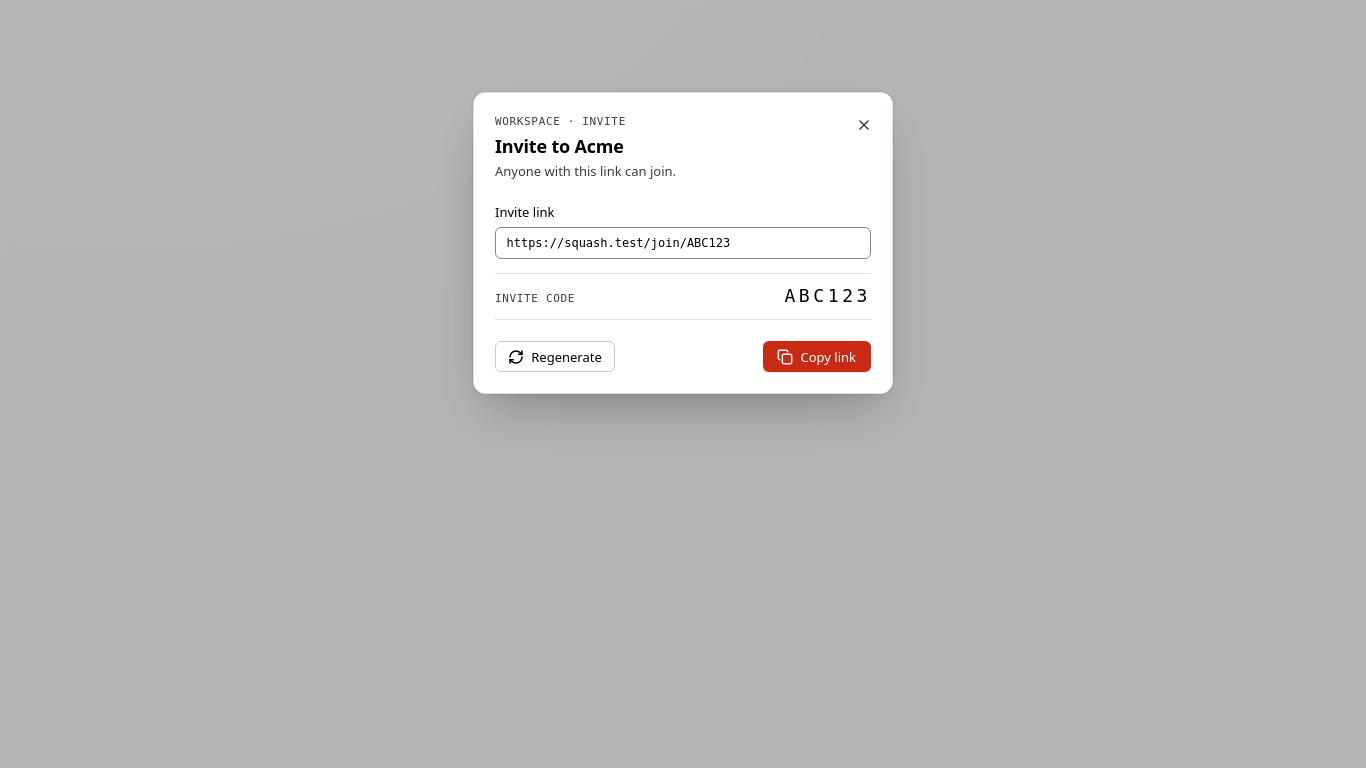
Test case: InviteDialog › keeps the old code and shows an error when regeneration fails
Click the button "Regenerate": (555, 357) [495, 341, 615, 372]
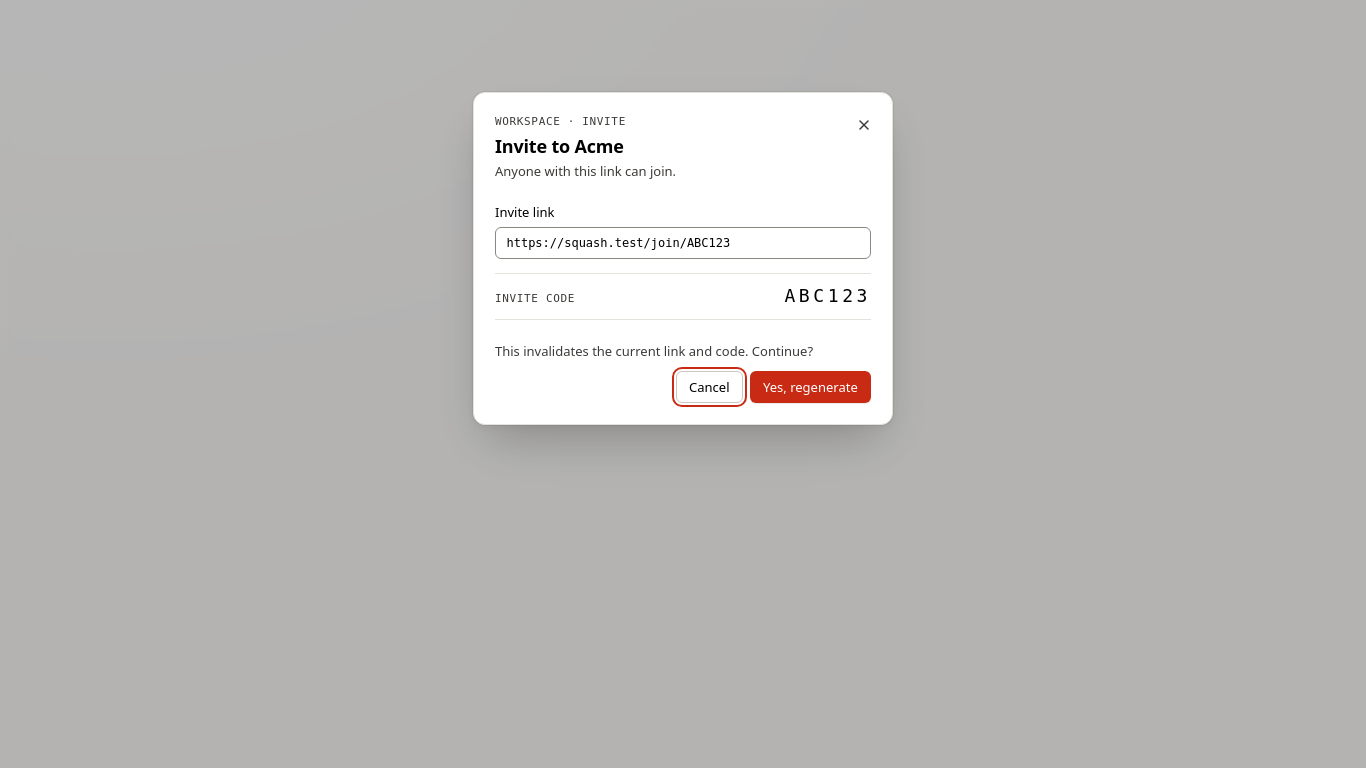
Click the button "Yes, regenerate": (810, 387) [750, 371, 871, 403]
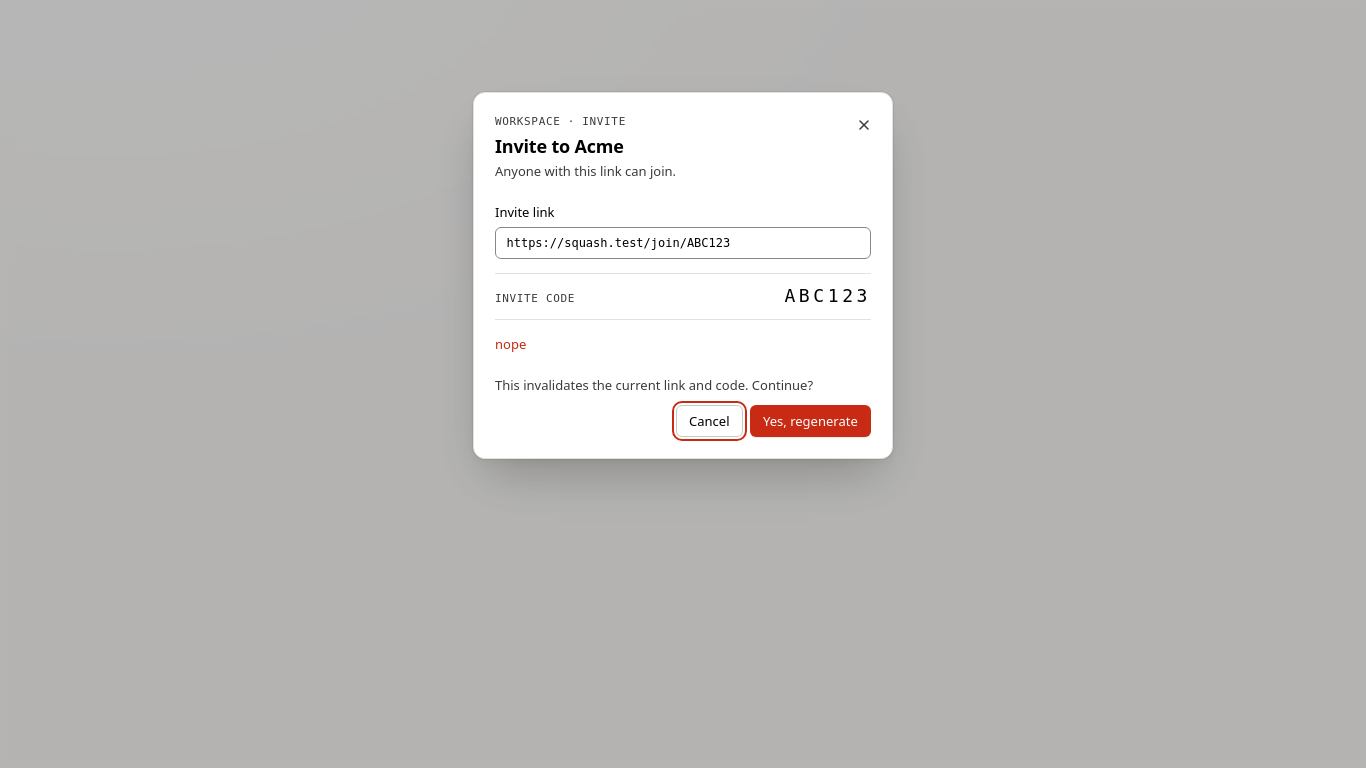
Check: the text "ABC123" is shown, box [784, 284, 871, 308]
Check: the message reads "nope", box [495, 335, 526, 353]
